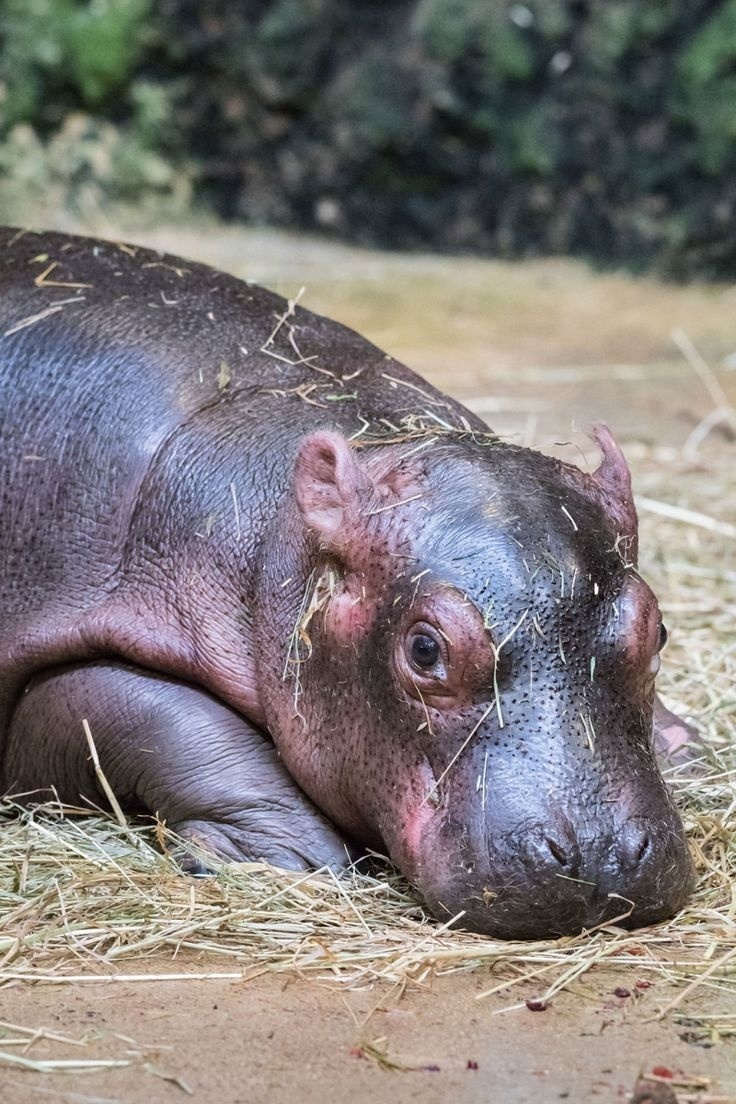hipopotamo: (1, 176, 710, 976)
